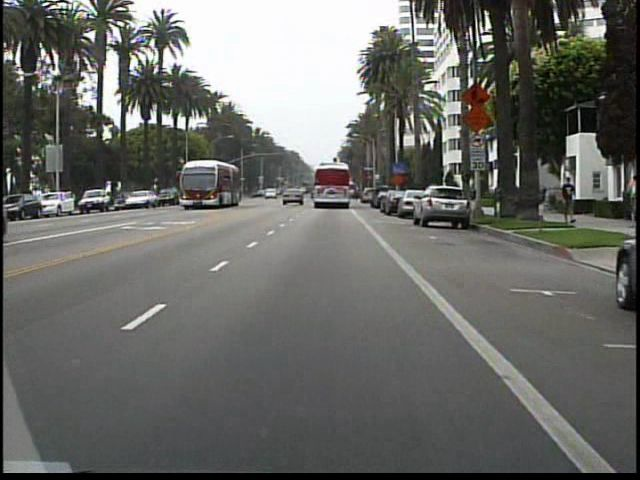person: (557, 173, 578, 231), (616, 170, 638, 219)
